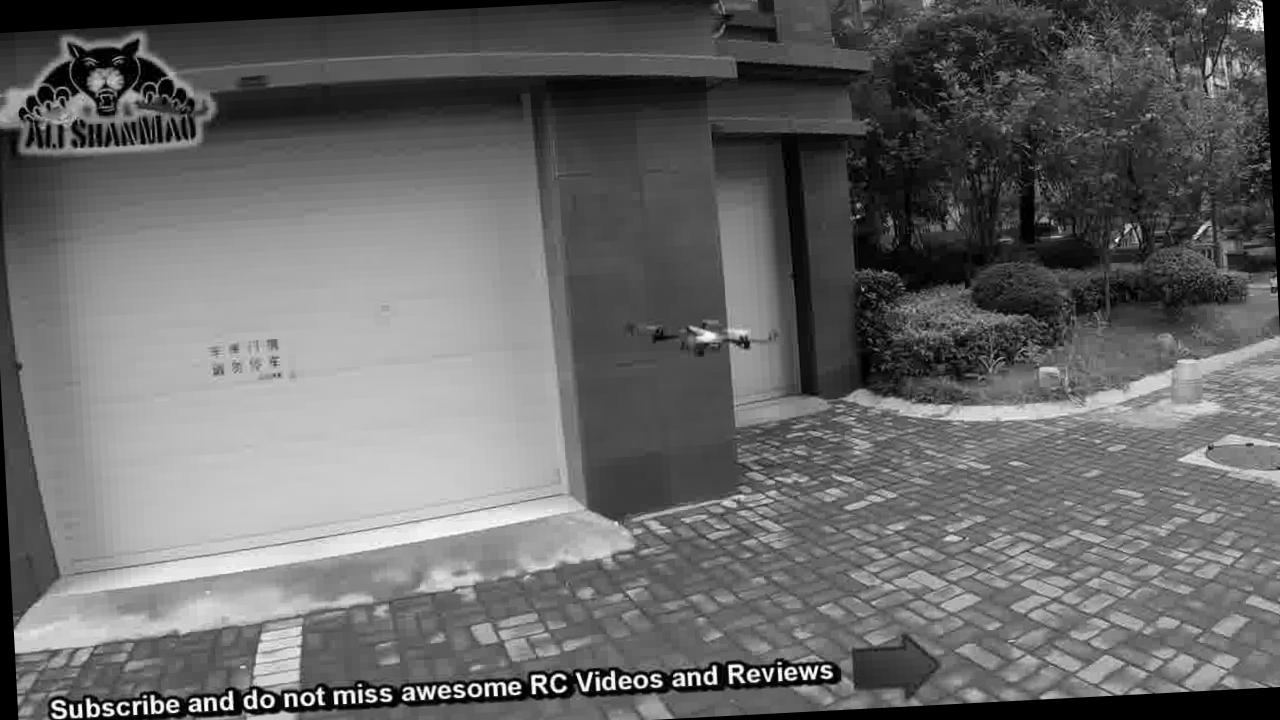drone: (636, 290, 782, 374)
